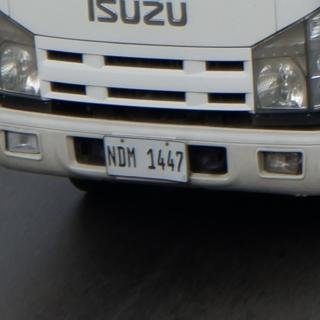license: (105, 138, 189, 184)
